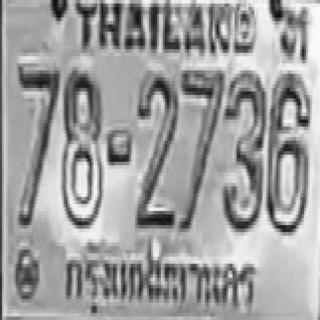N02: (135, 70, 177, 229)
N03: (221, 69, 264, 230)
N06: (264, 70, 310, 232)
N07: (179, 67, 223, 229), (16, 63, 58, 225)
N08: (60, 67, 101, 225)
P04: (58, 247, 259, 320)
